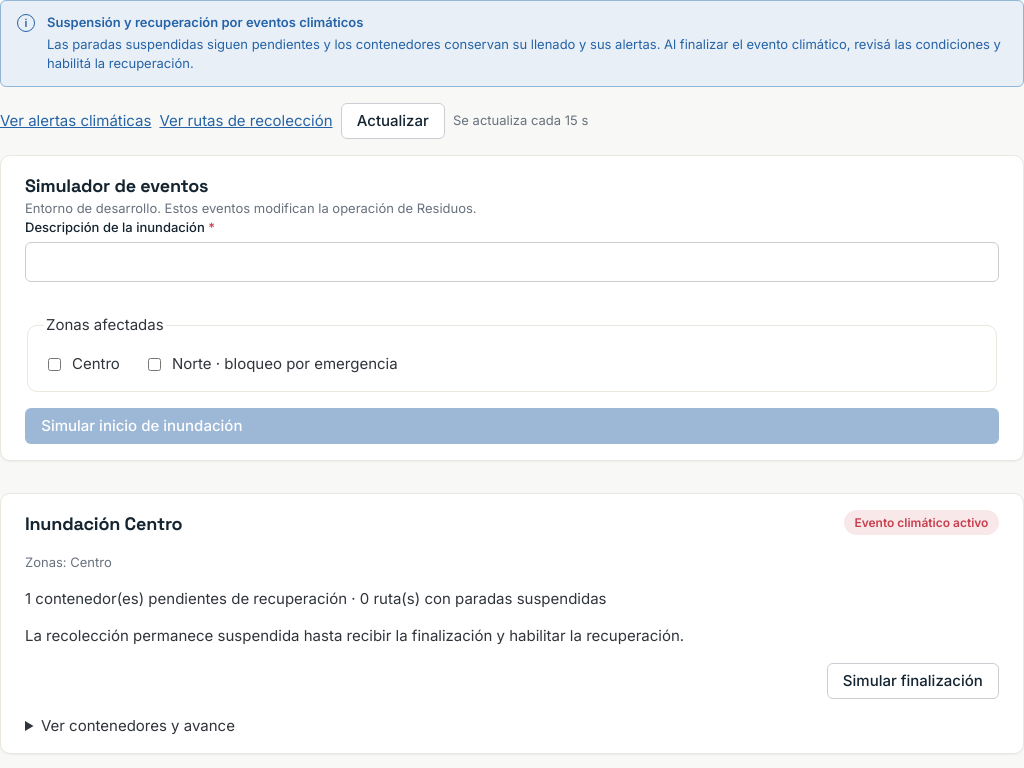
Inundaciones › la finalizacion se envia por separado de la habilitacion
This screenshot has width=1024, height=768.
Click the button "Simular finalización" at (913, 681), box [827,663,999,699]
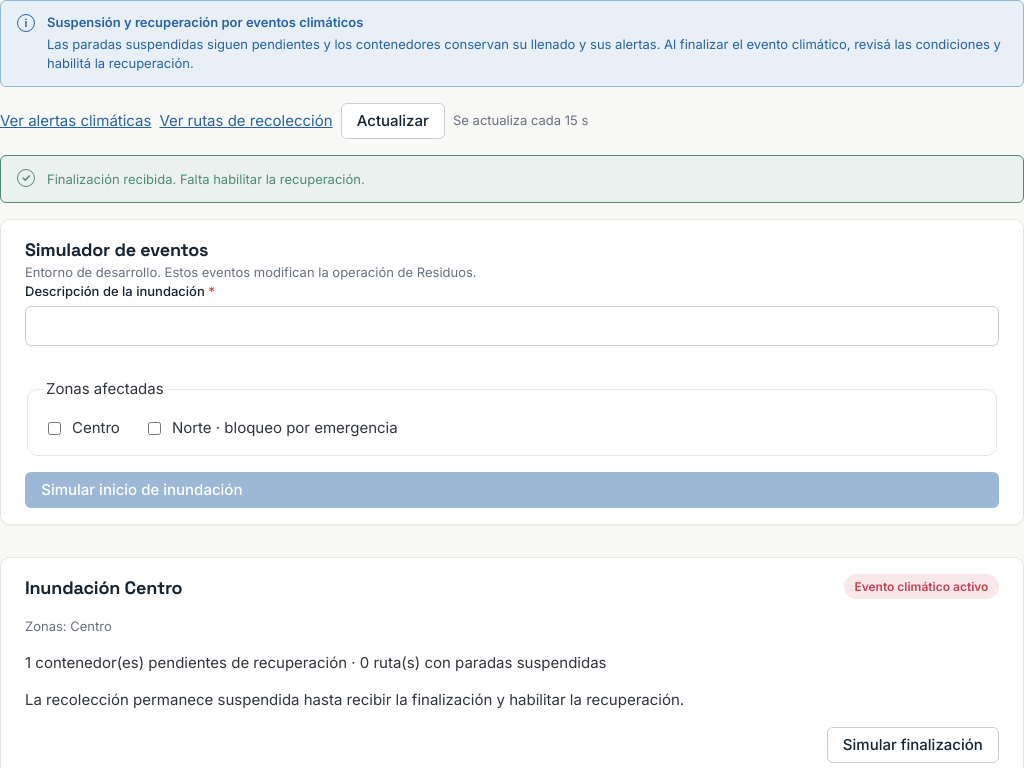
Expected: the text "Finalización recibida. Falta habilitar la recuperación." is shown, [47,170,365,190]
